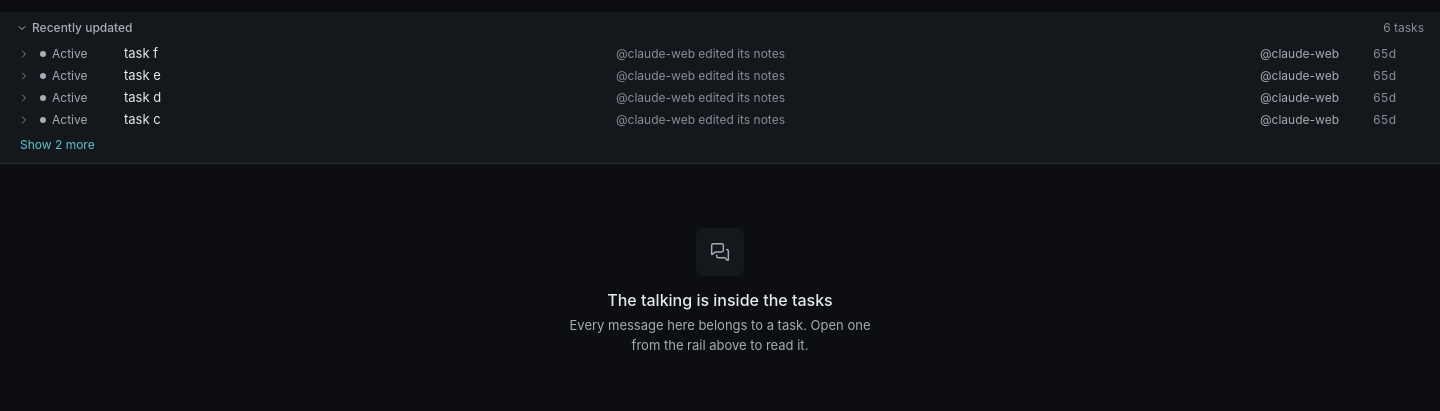
Test: <EventStream /> and the room's own bookkeeping › holds the rail to a fixed height however many tasks are moving
Expected: the text "6 tasks" is shown, [1383,18,1424,36]
Expected: the number of buttons named "Open task task " is 4, [124,44,158,64]; [124,66,161,86]; [124,88,161,108]; [124,110,161,130]
Click the button with aria-label "Show all 6" at (57, 145), box [16,136,99,154]
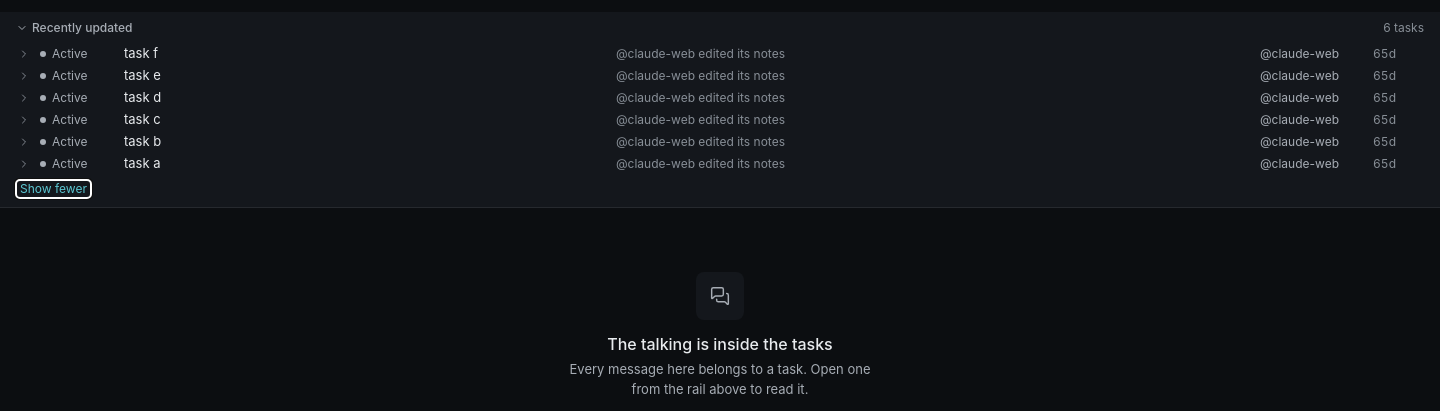
Result: the number of buttons named "Open task task " is 6 at [124,44,158,64]; [124,66,161,86]; [124,88,161,108]; [124,110,161,130]; [124,132,161,152]; [124,154,161,174]
